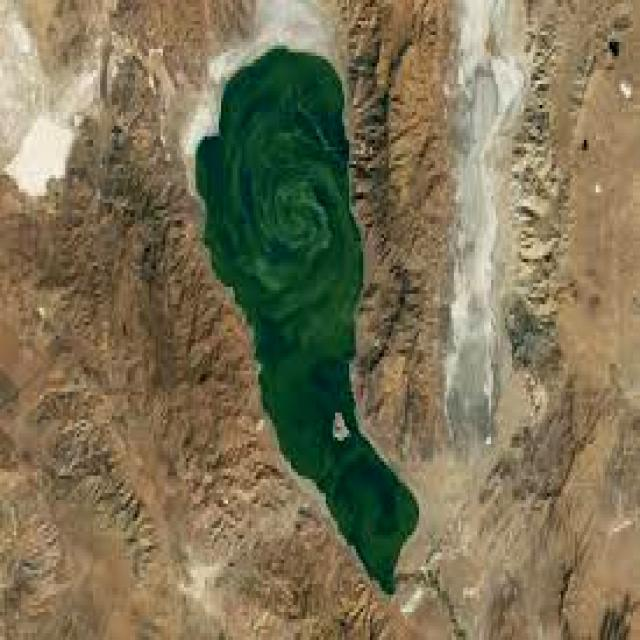algal: (196, 49, 418, 594)
